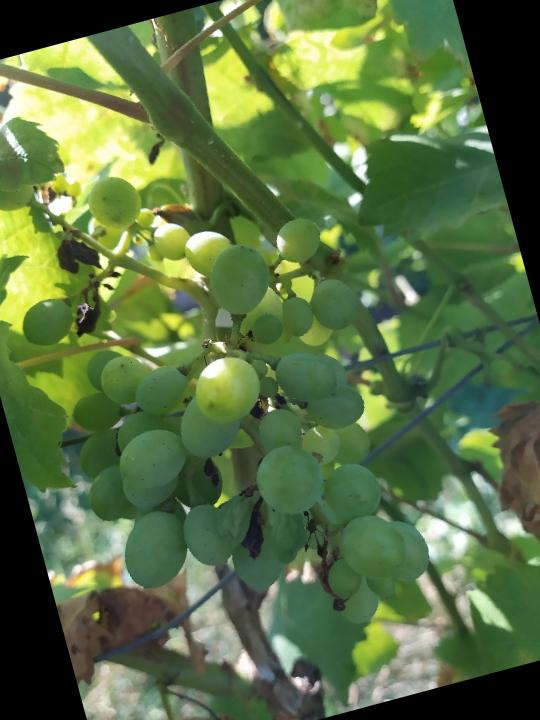grape: (0, 95, 449, 694)
